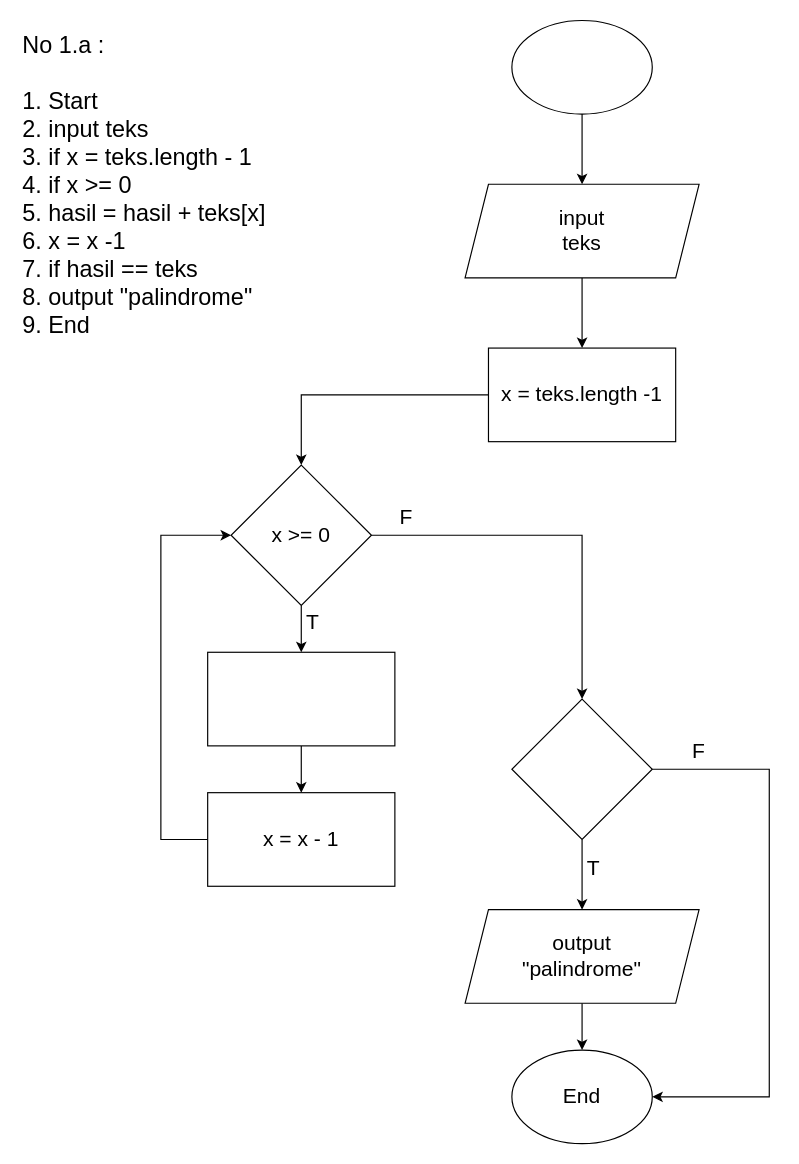
This 799x1164 diagram has some shape labels left out. Here are the shapes that lost their labels. From the top down, the centre of each, then its label:
the point at 581,66: Start
the point at 301,698: hasil = hasil + teks[x];
the point at 581,768: hasil == teks
